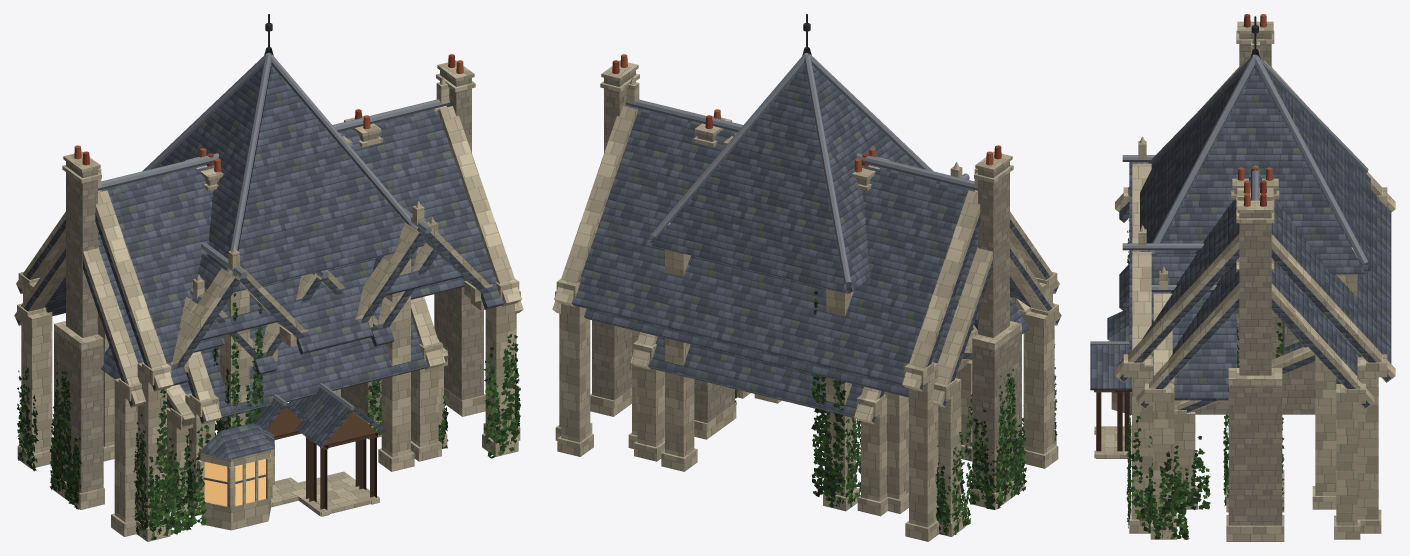
File: manor.glb
3 renders of one model, left to right at view 1: azimuth 30°, elevation 25°; view 2: azimuth 150°, elevation 25°; view 3: azimuth 270°, elevation 25°, orthographic.
Parts seen in each view (by area): view 1: mn_manor, mn_tower, mn_gables, mn_cottage, mn_leanto; view 2: mn_manor, mn_tower, mn_gables, mn_cottage, mn_leanto; view 3: mn_manor, mn_tower, mn_gables, mn_leanto, mn_cottage.
Boxes of the visible parts, box(x1,y1,x2,y2) form: mn_manor: box(16, 54, 521, 541); mn_tower: box(142, 14, 426, 471); mn_gables: box(14, 133, 523, 536); mn_cottage: box(184, 296, 445, 516); mn_leanto: box(98, 313, 448, 512); mn_manor: box(554, 54, 1059, 541); mn_tower: box(649, 14, 933, 511); mn_gables: box(552, 133, 1061, 536); mn_cottage: box(630, 324, 977, 516); mn_leanto: box(628, 330, 972, 513); mn_manor: box(1090, 14, 1395, 541); mn_tower: box(1140, 16, 1370, 487); mn_gables: box(1111, 167, 1374, 539); mn_leanto: box(1174, 322, 1336, 509); mn_cottage: box(1118, 258, 1341, 512).
Size of the model in its own units: 16.46 by 16.74 by 10.82.
5 materials, 4 textured.
